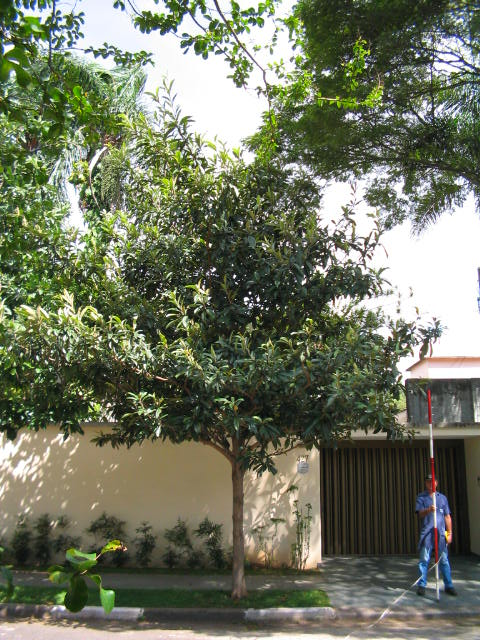crown: (26, 121, 444, 451)
stem: (208, 459, 274, 598)
stick: (421, 389, 446, 600)
tree: (25, 120, 449, 597)
